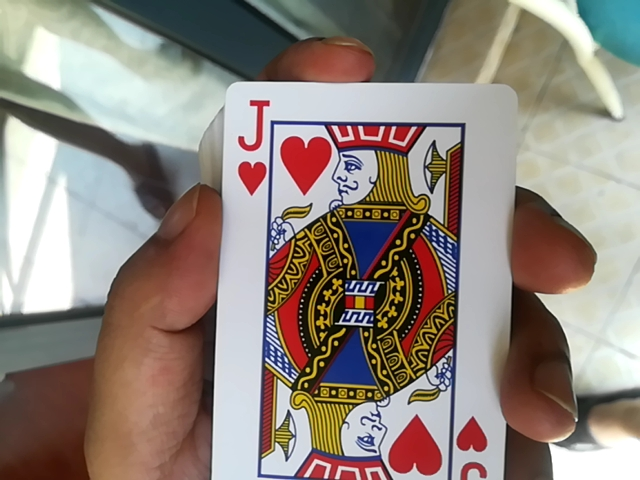hx j: (200, 70, 494, 474)
